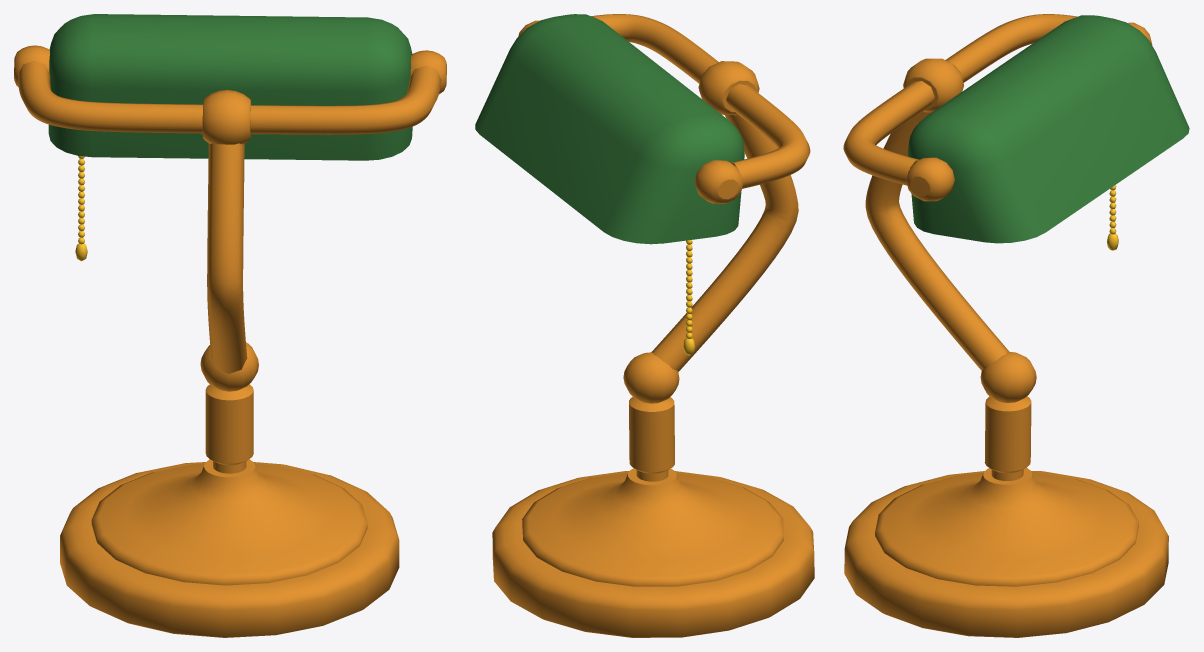
The model's file is Lamp.fbx.
3 views of the same model, side by side, from view 1: azimuth 30°, elevation 25°; view 2: azimuth 150°, elevation 25°; view 3: azimuth 270°, elevation 25° (orthographic). The views are drawn at different scales.
Parts seen in each view (by area): view 1: Lamp; view 2: Lamp; view 3: Lamp.
Part boxes in pixels (x1,y1,x2,y2): Lamp: [14, 14, 446, 637]; Lamp: [475, 14, 814, 637]; Lamp: [843, 14, 1189, 637].
Bounding box in the file's own units: 0.3234 × 0.4602 × 0.2834.
